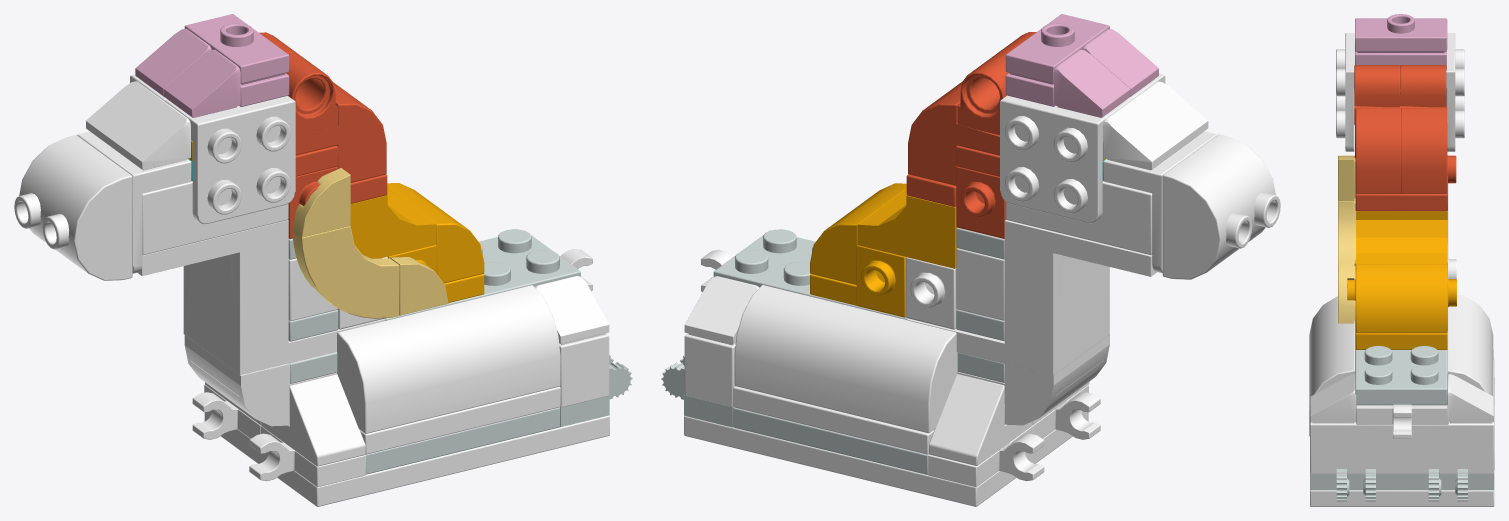
Rendered from Passo 30.fbx.
3 renders of one model, left to right at view 1: azimuth 30°, elevation 25°; view 2: azimuth 150°, elevation 25°; view 3: azimuth 270°, elevation 25°, orthographic. The views are drawn at different scales.
Visible parts, largest first — view 1: Brick_curved_2x4__1_.014, Bracket_5x2.011, Brick_curved_2x2.002, Bracket__1x2.004, Plate_4x6.020, Tile_2x2, Slope_1x2.002, Slope_2x1_2.016, Brick2x3.005, Plate_2x4.019, Slope_curved_2x2.013, Brick_cuved_1x2x1__1_.006 (+24 smaller); view 2: Brick_curved_2x4.014, Bracket_5x2.011, Brick_curved_2x2.002, Bracket__1x2__1_.003, Plate_4x6.020, Slope_1x2.002, Slope_2x1_2__1_.016, Brick_curved_1x2.008, Brick2x3.005, Brick_cuved_1x2x1.006, Plate_2x4.019, Slope_curved_2x2.013 (+24 smaller); view 3: Brick_1x4.018, Brick_curved_2x1.007, Plate_2x4.019, Brick_cuved_1x2x1__1_.006, Brick_cuved_1x2x1.006, Brick_curved_2x4.014, Brick_curved_2x4__1_.014, Plate_special_1x2.001, Plate_4x6.020, Brick_curved_1x2.008, Brick_curved_1x2__1_.008, Plate_special_1x2_2.019 (+16 smaller).
Boxes of the visible parts, bbox=[...] form: Brick_curved_2x4__1_.014: bbox=[337, 285, 560, 433]; Bracket_5x2.011: bbox=[137, 220, 385, 374]; Brick_curved_2x2.002: bbox=[14, 135, 132, 280]; Bracket__1x2.004: bbox=[164, 96, 295, 224]; Plate_4x6.020: bbox=[204, 410, 609, 506]; Tile_2x2: bbox=[292, 226, 399, 318]; Slope_1x2.002: bbox=[86, 81, 190, 170]; Slope_2x1_2.016: bbox=[261, 374, 365, 466]; Brick2x3.005: bbox=[142, 181, 288, 255]; Plate_2x4.019: bbox=[385, 229, 580, 320]; Slope_curved_2x2.013: bbox=[184, 335, 337, 426]; Brick_cuved_1x2x1__1_.006: bbox=[295, 86, 386, 182]; Brick_curved_2x4.014: bbox=[734, 285, 957, 433]; Bracket_5x2.011: bbox=[907, 220, 1156, 375]; Brick_curved_2x2.002: bbox=[1162, 134, 1280, 279]; Bracket__1x2__1_.003: bbox=[1000, 95, 1130, 223]; Plate_4x6.020: bbox=[684, 410, 1088, 506]; Slope_1x2.002: bbox=[1103, 81, 1208, 170]; Slope_2x1_2__1_.016: bbox=[929, 374, 1032, 465]; Brick_curved_1x2.008: bbox=[857, 195, 956, 268]; Brick2x3.005: bbox=[1005, 181, 1152, 255]; Brick_cuved_1x2x1.006: bbox=[908, 85, 999, 185]; Plate_2x4.019: bbox=[713, 229, 908, 319]; Slope_curved_2x2.013: bbox=[957, 334, 1109, 425]; Brick_1x4.018: bbox=[1310, 406, 1494, 473]; Brick_curved_2x1.007: bbox=[1355, 264, 1447, 333]; Plate_2x4.019: bbox=[1355, 320, 1447, 405]; Brick_cuved_1x2x1__1_.006: bbox=[1355, 108, 1401, 193]; Brick_cuved_1x2x1.006: bbox=[1401, 106, 1446, 193]; Brick_curved_2x4.014: bbox=[1447, 294, 1493, 395]; Brick_curved_2x4__1_.014: bbox=[1309, 296, 1355, 436]; Plate_special_1x2.001: bbox=[1355, 14, 1446, 52]; Plate_4x6.020: bbox=[1310, 474, 1494, 506]; Brick_curved_1x2.008: bbox=[1401, 211, 1447, 264]; Brick_curved_1x2__1_.008: bbox=[1356, 211, 1402, 264]; Plate_special_1x2_2.019: bbox=[1356, 404, 1448, 439].
Bounding box in the file's own units: 0.9112 × 0.6921 × 0.3217.
